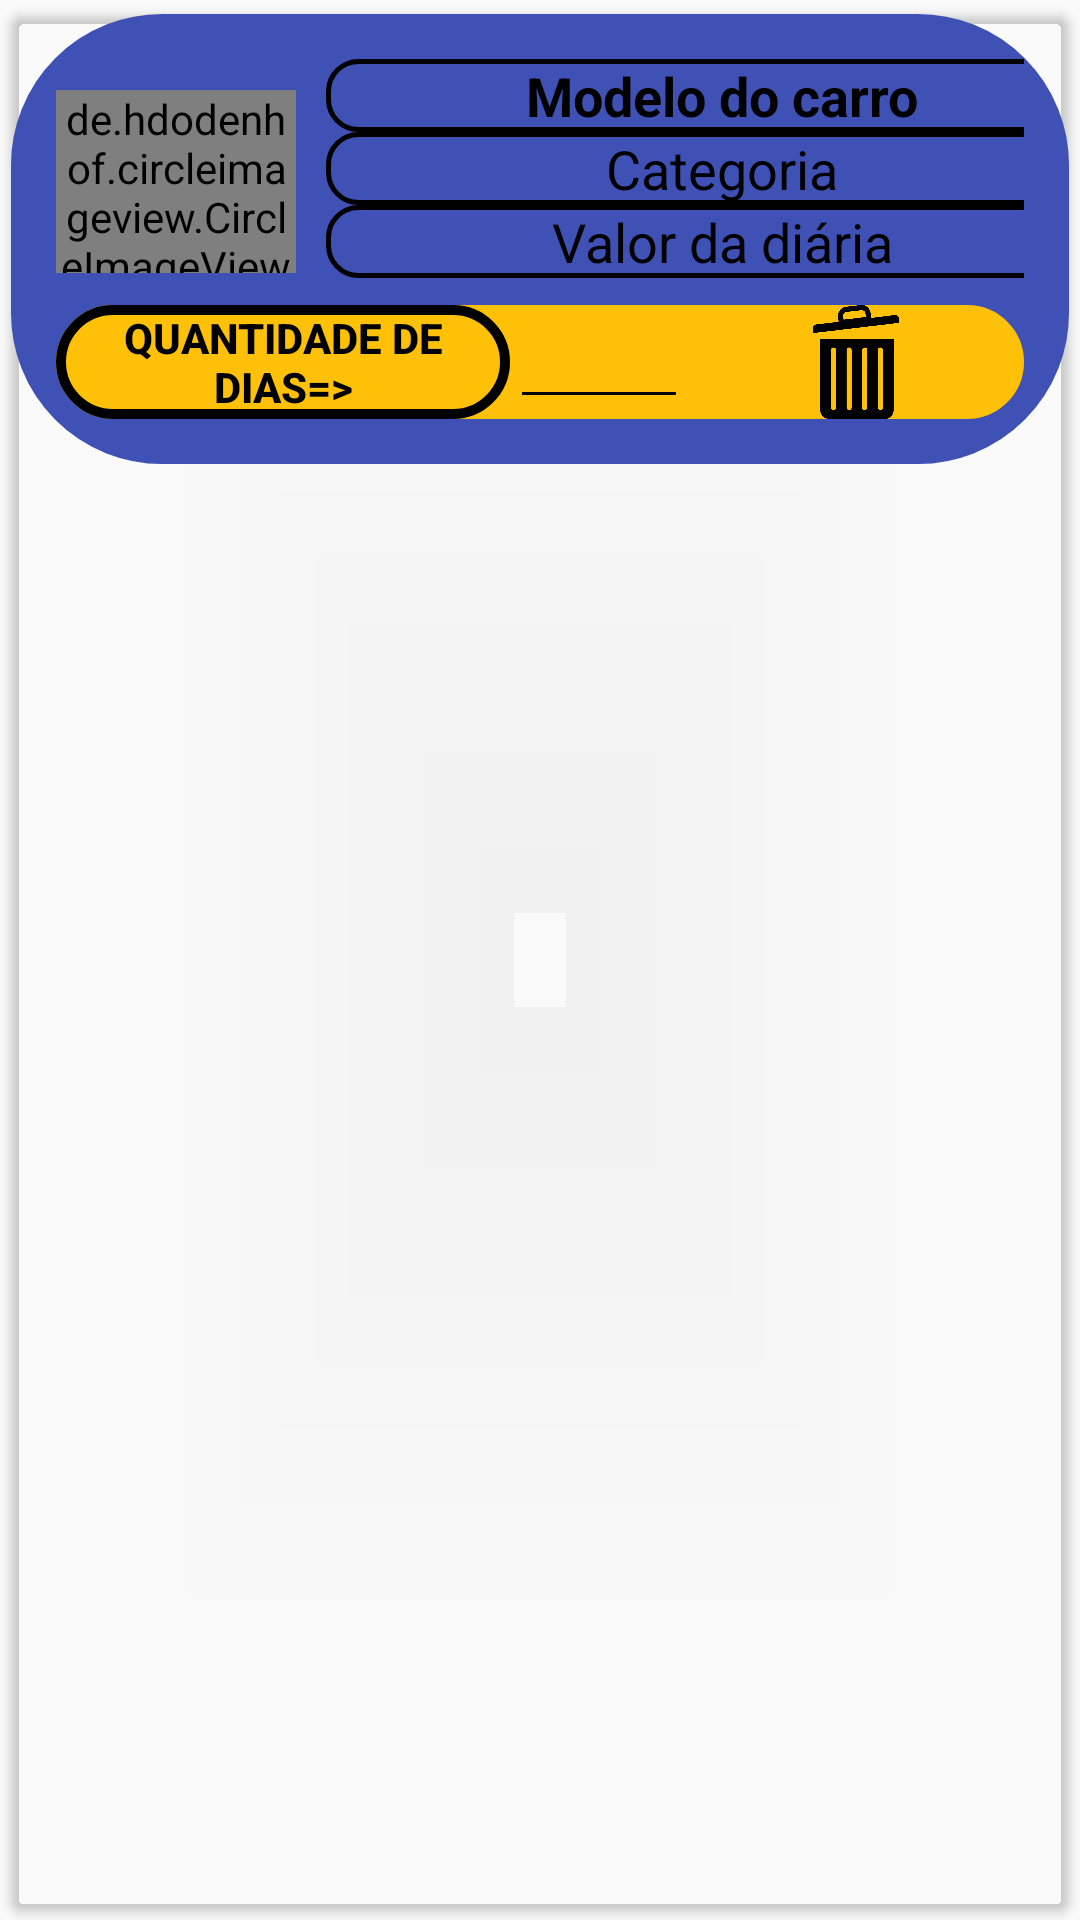

Icons on this 1080px x 1920px Android screen, each with its box as (x1, y1, x2, y2):
delete: (688, 305, 1024, 419)
